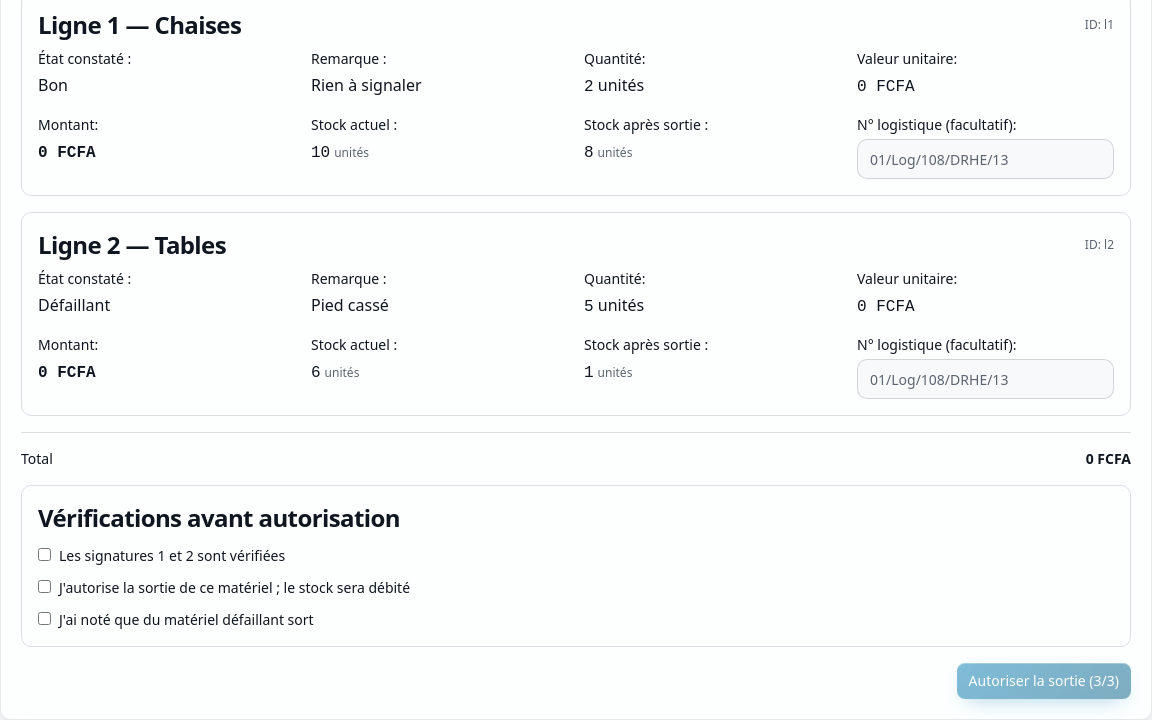
it: AutorisationOrdreSortie — contrôle › C3 : liste à cocher exigée, et case défaillant exigée
This screenshot has width=1152, height=720.
(page scrolled)
Check: the button "Autoriser la sortie (3/3)" is disabled, box [957,663,1131,699]
Click the checkbox labelled "Les signatures 1 et 2 sont vérifiées" at (44, 554), box [38,548,51,561]
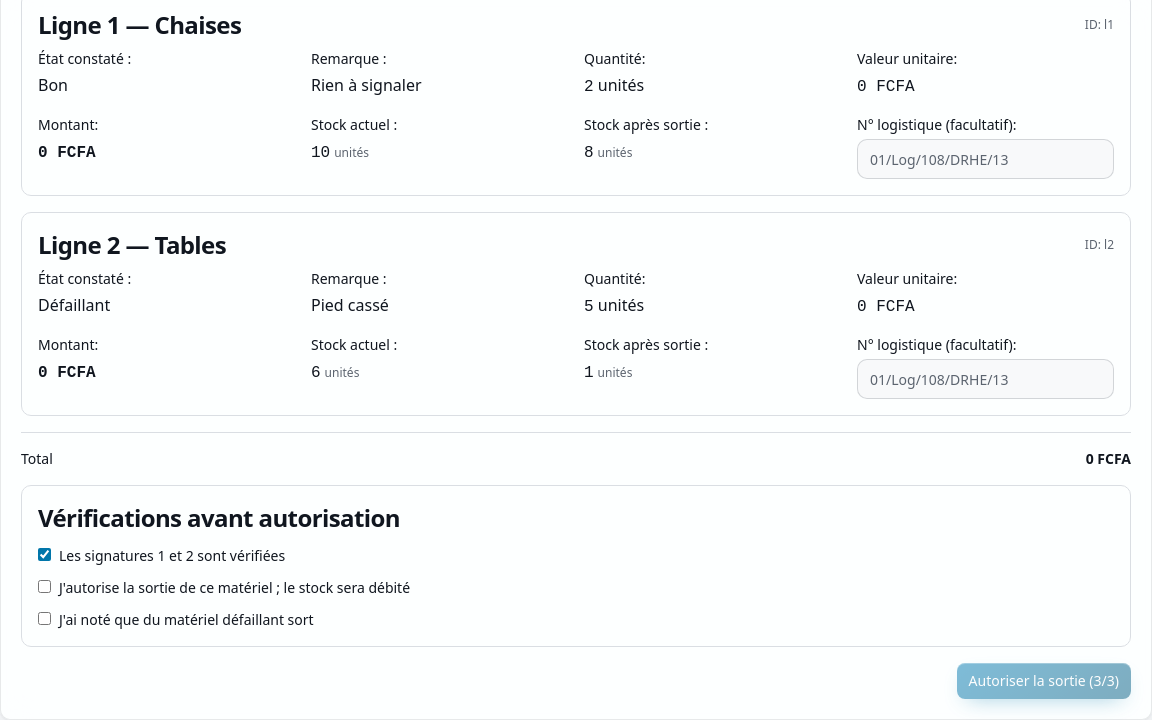
Click the checkbox labelled "J'autorise la sortie de ce matériel ; le stock sera débité" at (44, 586), box [38,580,51,593]
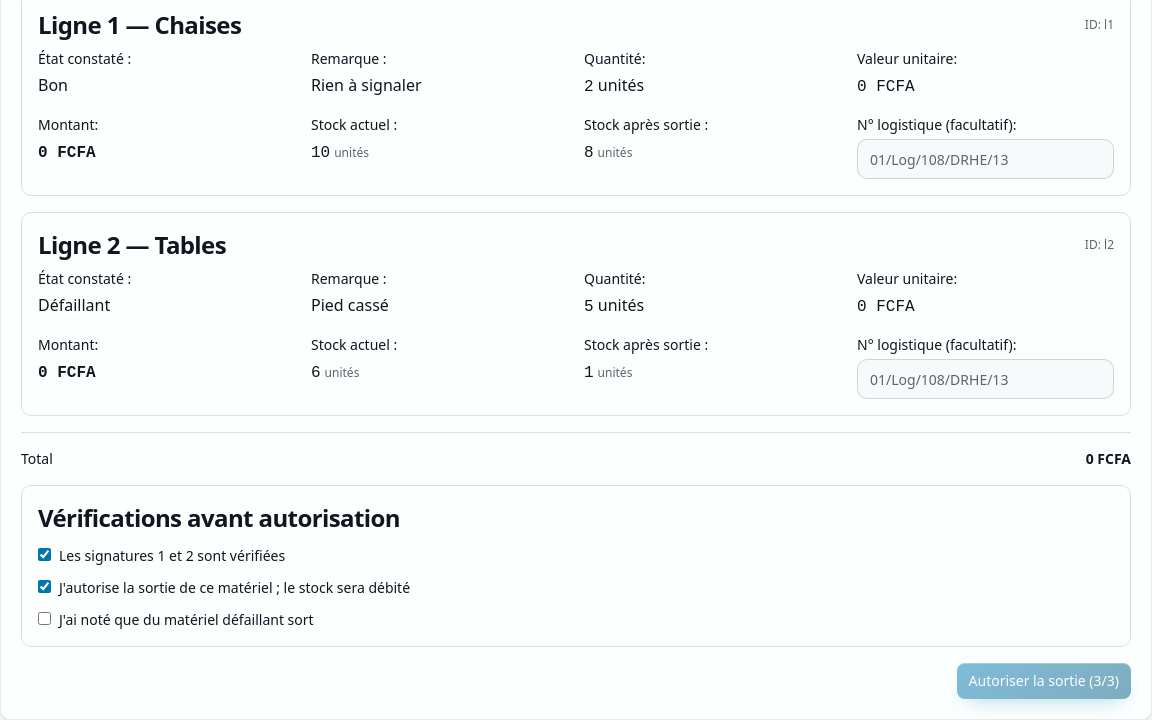
Check: the button "Autoriser la sortie (3/3)" is disabled, box [957,663,1131,699]
Click the checkbox labelled "J'ai noté que du matériel défaillant sort" at (44, 618), box [38,612,51,625]
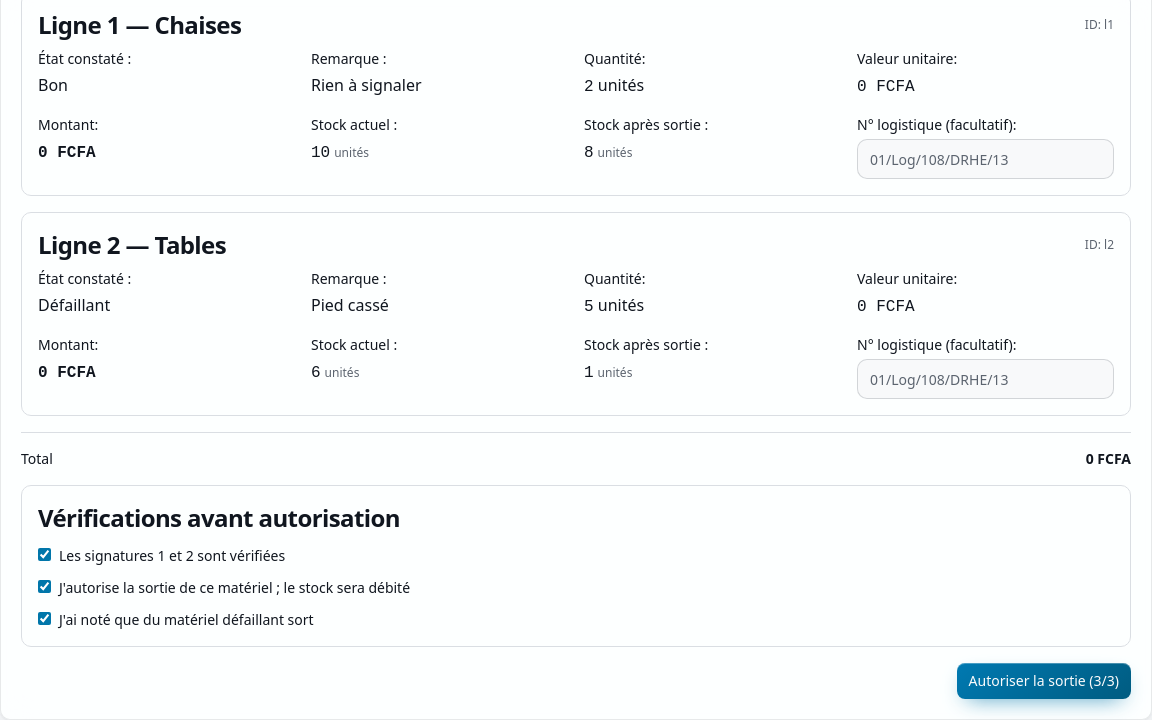
Check: the button "Autoriser la sortie (3/3)" is enabled, box [957,663,1131,699]
